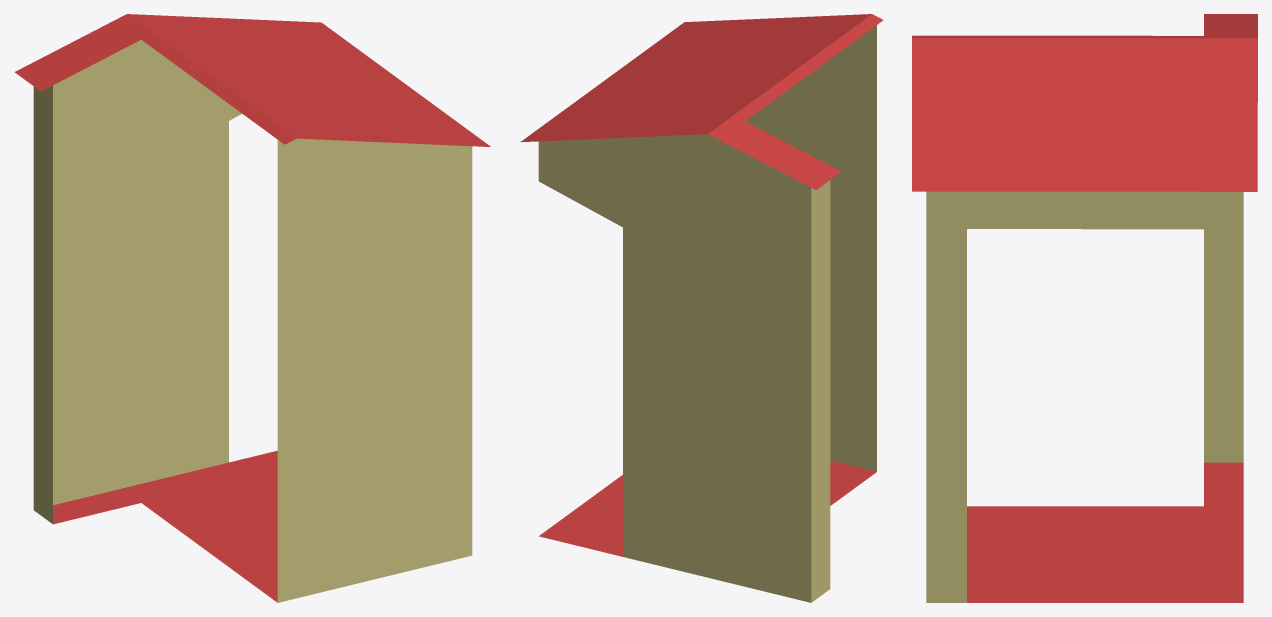
The picture shows the model from 3 angles, left to right: view 1: azimuth 30°, elevation 25°; view 2: azimuth 150°, elevation 25°; view 3: azimuth 270°, elevation 25°; orthographic projection. The views are drawn at different scales.
Size of the model in its own units: 12.7 by 12.2 by 18.44.
